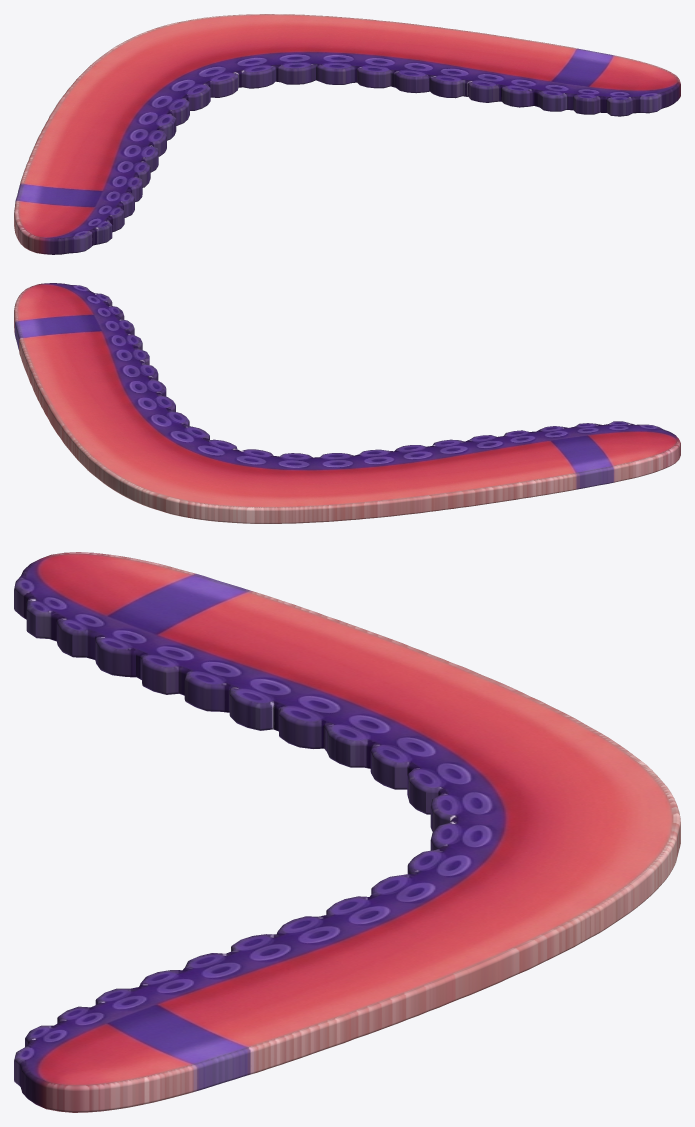
Rendered from Boomerang_42.fbx.
The picture shows the model from 3 angles, top to bottom: view 1: azimuth 30°, elevation 25°; view 2: azimuth 150°, elevation 25°; view 3: azimuth 270°, elevation 25°; orthographic projection. The views are drawn at different scales.
Parts seen in each view (by area): view 1: Boomerang_42; view 2: Boomerang_42; view 3: Boomerang_42.
Part boxes in pixels (<box>): Boomerang_42: <box>14,14,680,254</box>; Boomerang_42: <box>14,283,680,523</box>; Boomerang_42: <box>14,552,680,1112</box>.
Size of the model in its own units: 202 by 4.6 by 106.
1 material, 1 textured.
